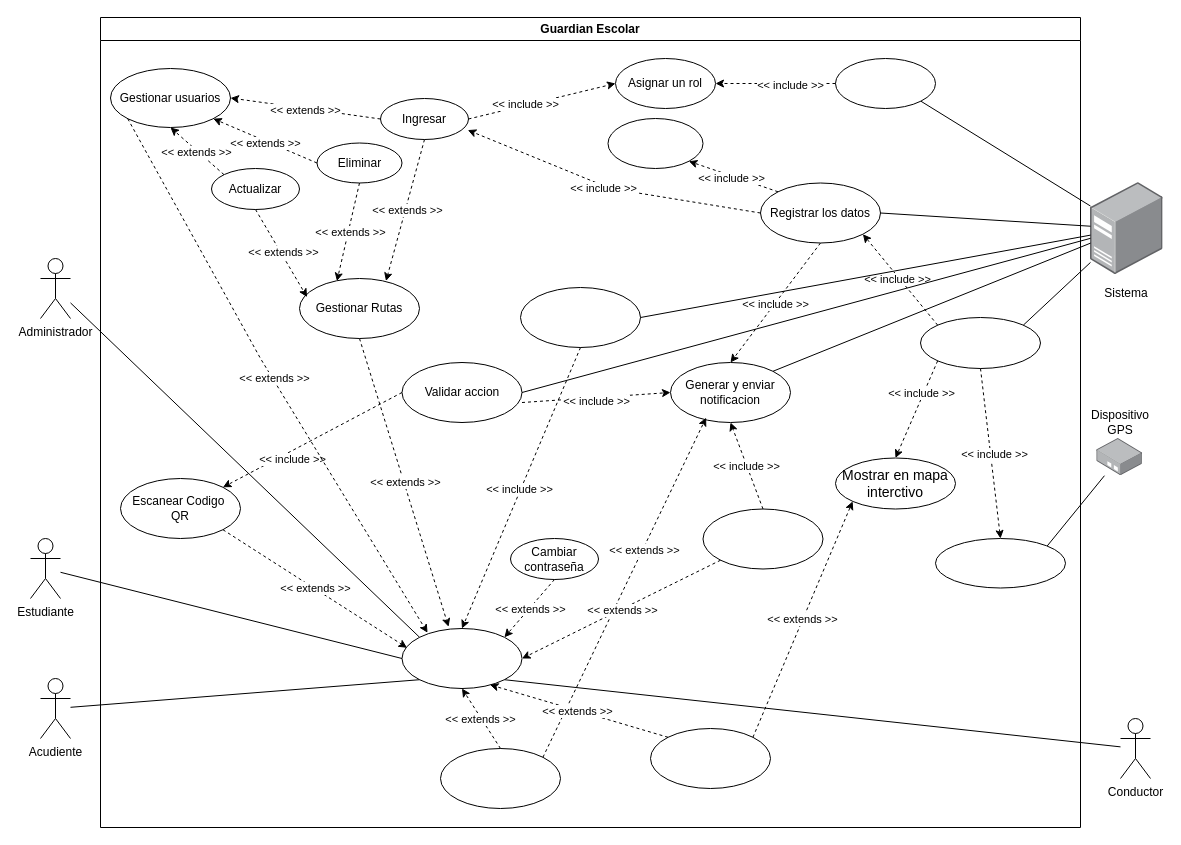
Image size: 1181x845. Some labels were removed from this diagram. Here are the shapes that lost their labels. From the top down, the centre of each, then its label:
At point (885, 83): "Cargar funcionalidades".
At point (655, 143): "Validar unicidad".
At point (580, 317): "Validar datos".
At point (980, 342): "Capturar y procesar".
At point (762, 538): "Reportar Inconvenientes".
At point (1000, 563): "Generar coordenadas".
At point (461, 658): "Iniciar sesion".
At point (500, 778): "Visualizar notificacion".
At point (710, 758): "Visualizar en mapa".
